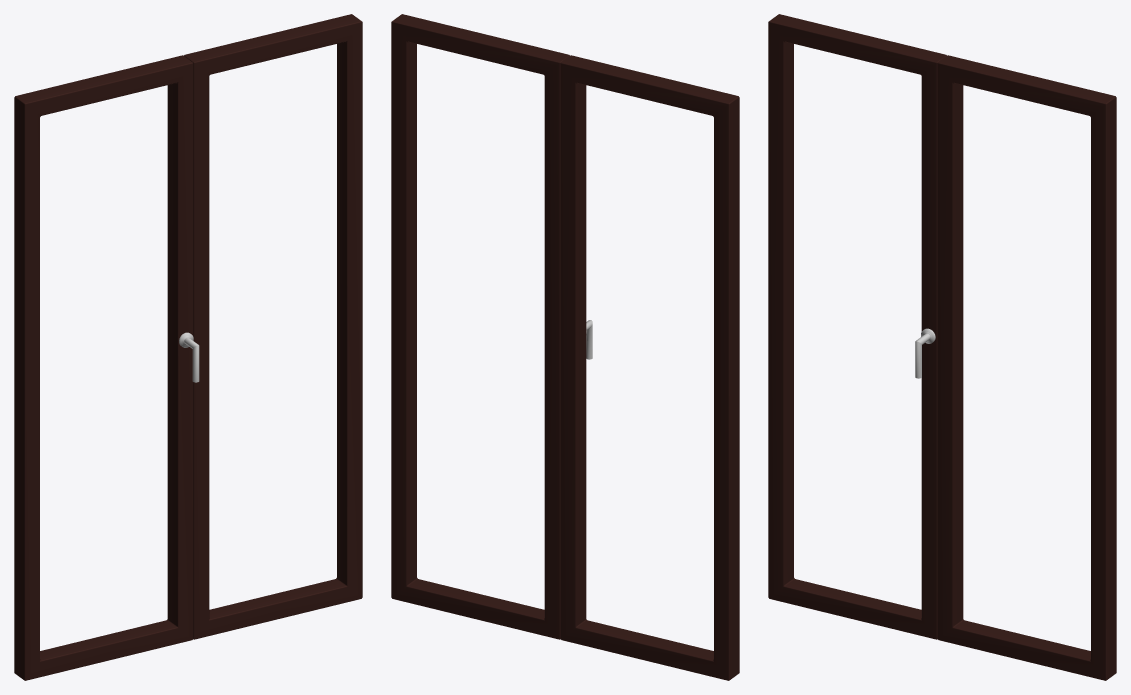
File: Window.fbx
3 views of the same model, side by side, from view 1: azimuth 30°, elevation 25°; view 2: azimuth 150°, elevation 25°; view 3: azimuth 330°, elevation 25° (orthographic).
Visible parts, largest first — view 1: Window, Window.r; view 2: Window, Window.r; view 3: Window.r, Window.
Boxes of the visible parts, <box> form: Window: <box>14,55,193,680</box>; Window.r: <box>184,14,362,639</box>; Window: <box>560,55,739,680</box>; Window.r: <box>391,14,569,639</box>; Window.r: <box>937,55,1116,680</box>; Window: <box>768,14,946,639</box>.
Size of the model in its own units: 162 by 264 by 18.84.
